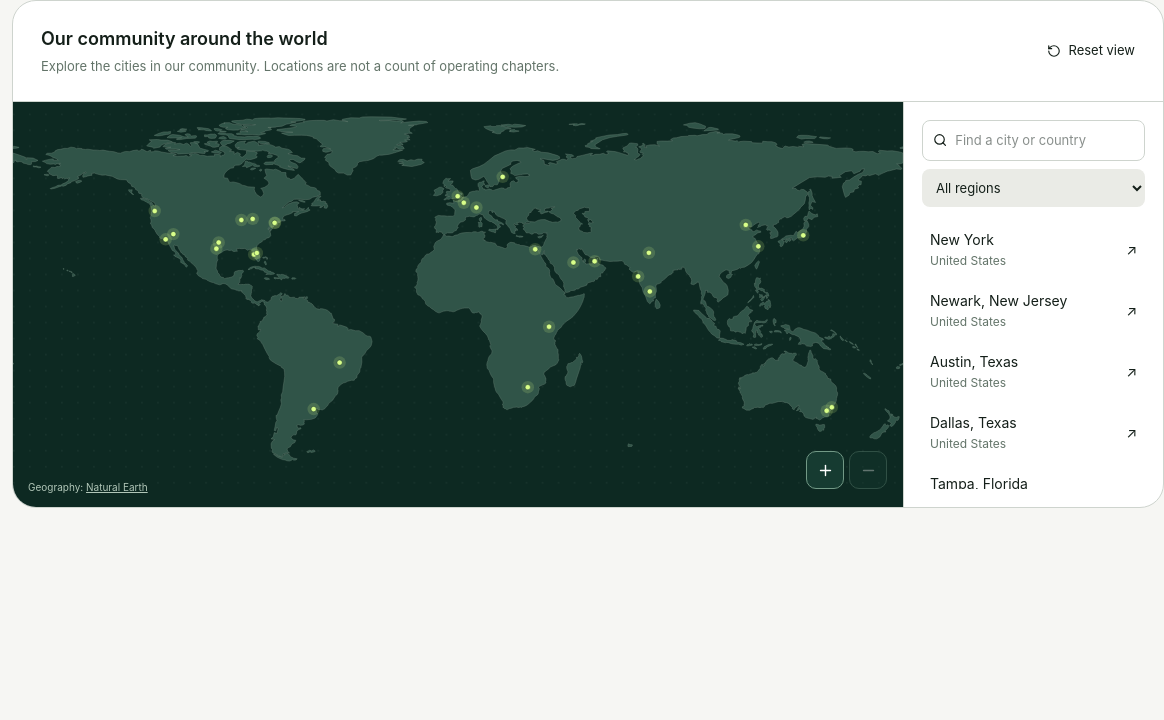
Test: community map › keeps geographic points, search results, selection, and reset synchronized
Type "Tokyo" into the field labelled "Find a city or country".
click(1045, 140); type("Tokyo")  # box [955, 130, 1134, 150]
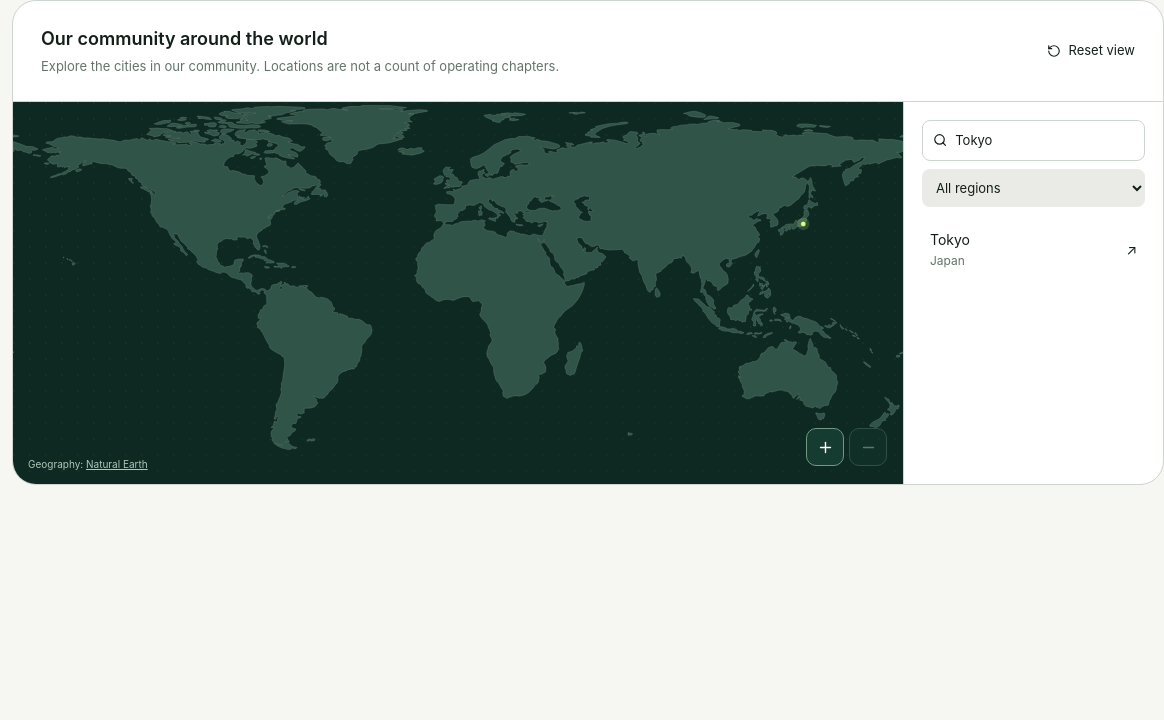
Click the button with aria-label "Explore Tokyo, Japan".
click(1034, 250)  # box [922, 219, 1145, 280]
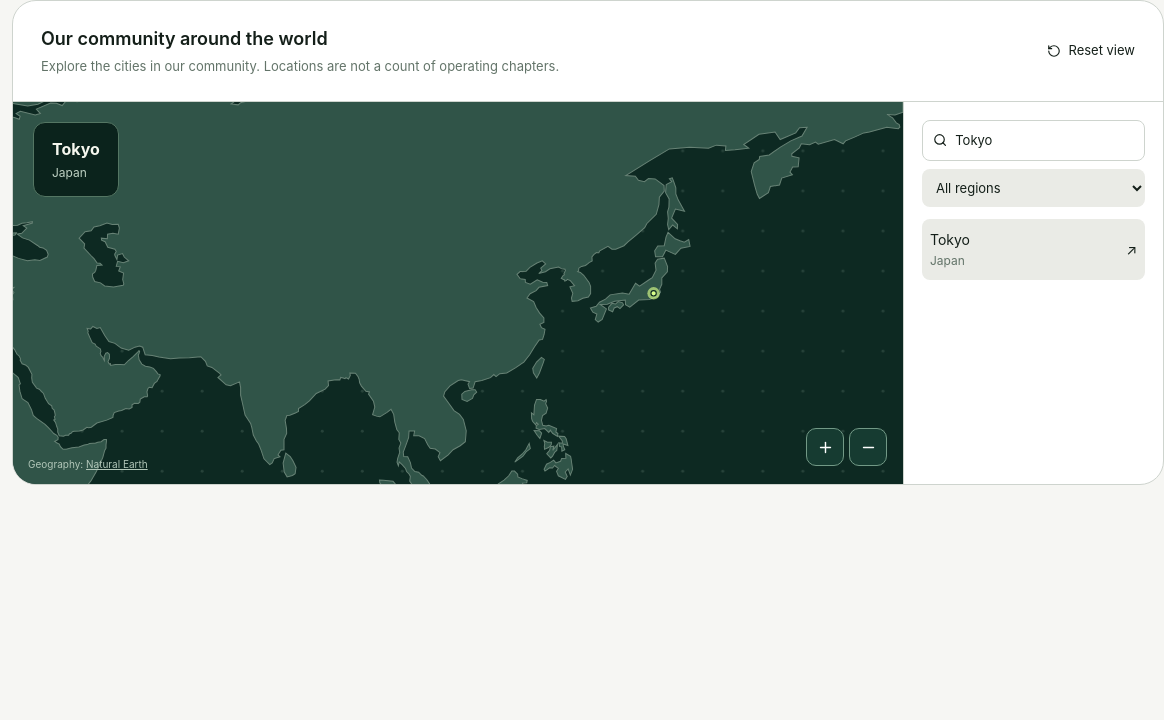
Expected: the element with class "world-map-selection" reads "Tokyo Japan", [33, 122, 119, 196]
Click the button "Reset view".
click(1091, 51)  # box [1048, 41, 1135, 60]
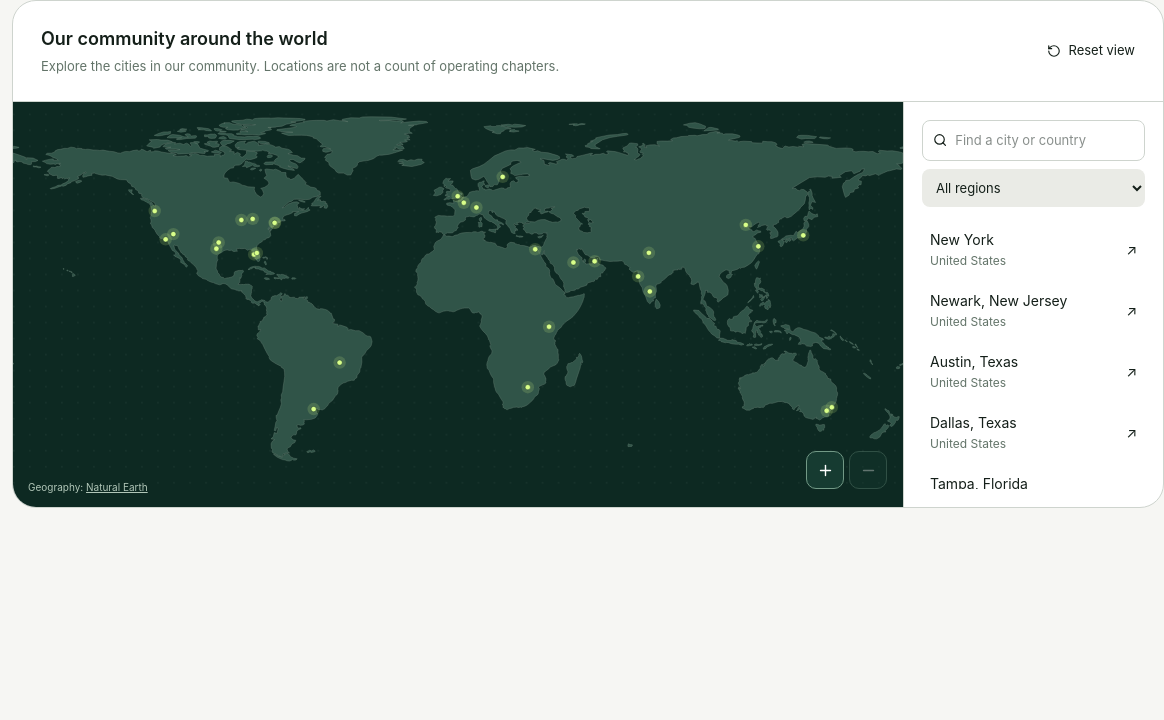
Expected: the field is empty, [955, 130, 1134, 150]
